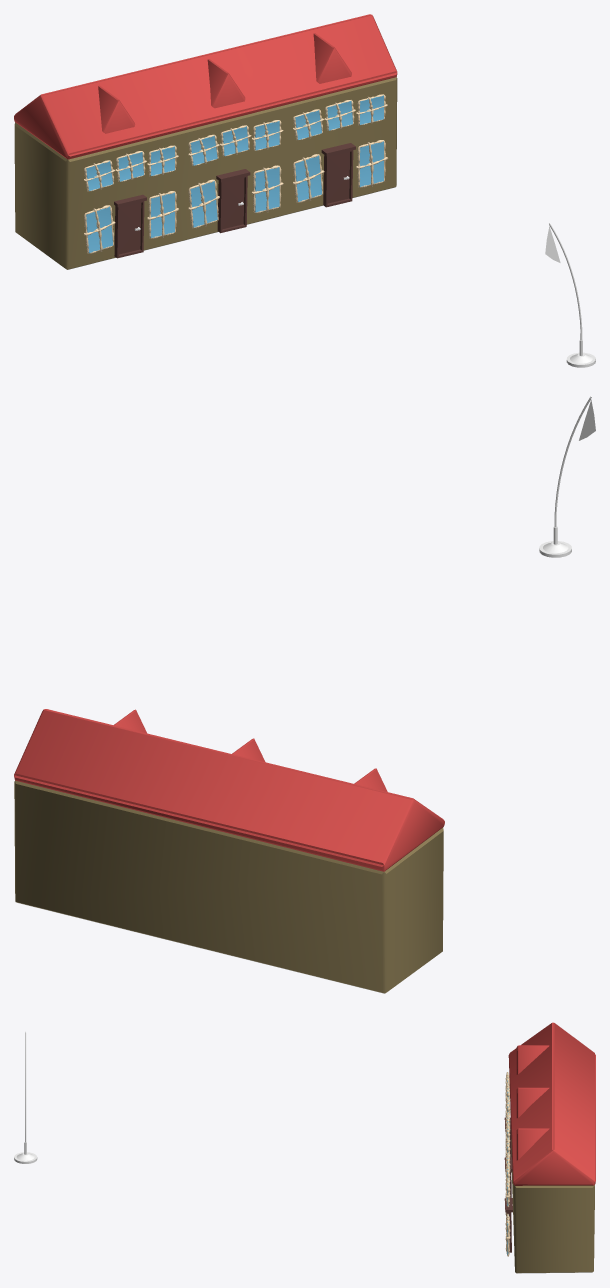
Rendered from SM_Housing.fbx.
3 views of the same model, one above another, from view 1: azimuth 30°, elevation 25°; view 2: azimuth 150°, elevation 25°; view 3: azimuth 270°, elevation 25° (orthographic). The views are drawn at different scales.
Parts seen in each view (by area): view 1: SM_SmallBuilding.032, window.002, Cube.002, Cube.001, Cube, Cylinder; view 2: SM_SmallBuilding.032, Cylinder; view 3: SM_SmallBuilding.032, window.002, Cylinder.
Part boxes in pixels (bbox=[...]): SM_SmallBuilding.032: bbox=[14, 14, 397, 269]; window.002: bbox=[84, 94, 387, 253]; Cube.002: bbox=[321, 143, 355, 207]; Cube.001: bbox=[216, 169, 250, 233]; Cube: bbox=[114, 194, 146, 258]; Cylinder: bbox=[545, 223, 595, 367]; SM_SmallBuilding.032: bbox=[14, 709, 444, 993]; Cylinder: bbox=[539, 396, 595, 557]; SM_SmallBuilding.032: bbox=[508, 1022, 595, 1273]; window.002: bbox=[505, 1072, 510, 1256]; Cylinder: bbox=[14, 1031, 37, 1163].
Bounding box in the file's own units: 1783 × 1173 × 3399.
